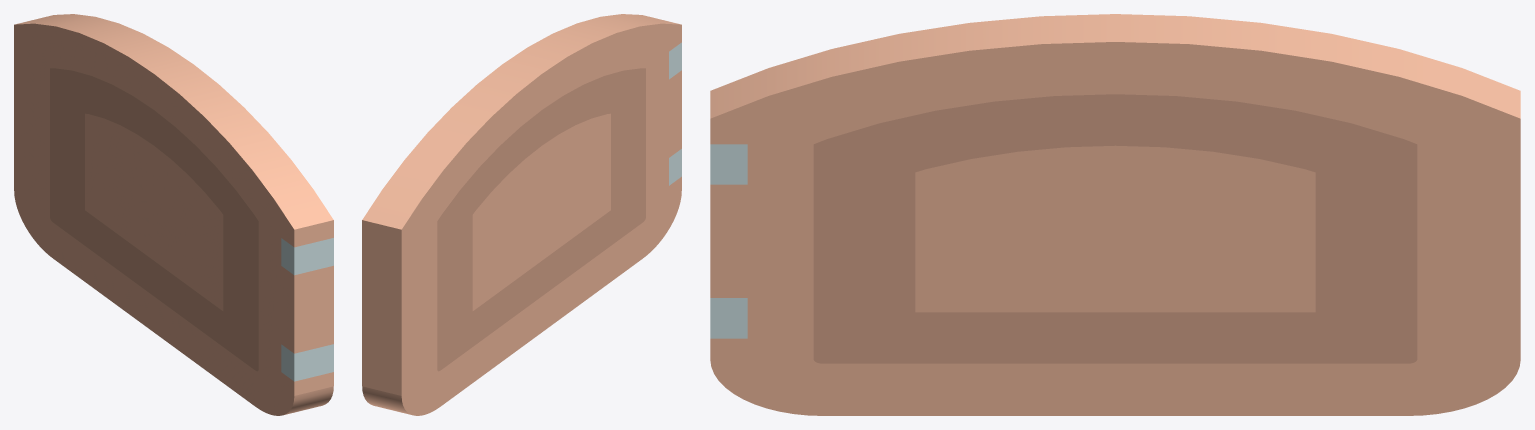
File: crafted-gate-leaf-4.glb
The picture shows the model from 3 angles, left to right: view 1: azimuth 30°, elevation 25°; view 2: azimuth 150°, elevation 25°; view 3: azimuth 270°, elevation 25°; orthographic projection. The views are drawn at different scales.
Parts seen in each view (by area): view 1: leaf-0, leaf-2, leaf-1; view 2: leaf-0, leaf-2, leaf-1; view 3: leaf-0, leaf-2, leaf-1.
Part boxes in pixels (x1=…): leaf-0: x1=14, y1=14, x2=333, y2=415; leaf-2: x1=50, y1=68, x2=258, y2=371; leaf-1: x1=281, y1=238, x2=333, y2=381; leaf-0: x1=362, y1=14, x2=681, y2=415; leaf-2: x1=437, y1=68, x2=645, y2=371; leaf-1: x1=669, y1=42, x2=681, y2=185; leaf-0: x1=710, y1=14, x2=1520, y2=415; leaf-2: x1=813, y1=94, x2=1417, y2=363; leaf-1: x1=710, y1=144, x2=747, y2=338.
Size of the model in its own units: 0.07 by 0.438 by 0.86.
